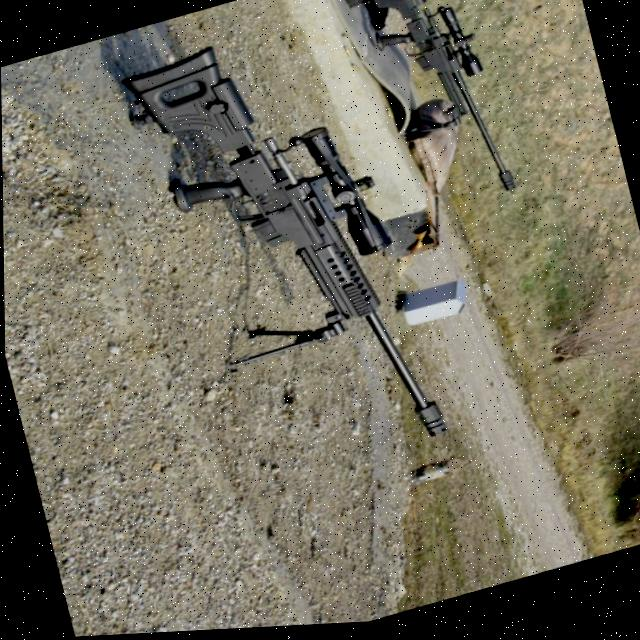firearm: (124, 6, 451, 499), (354, 0, 518, 224)
